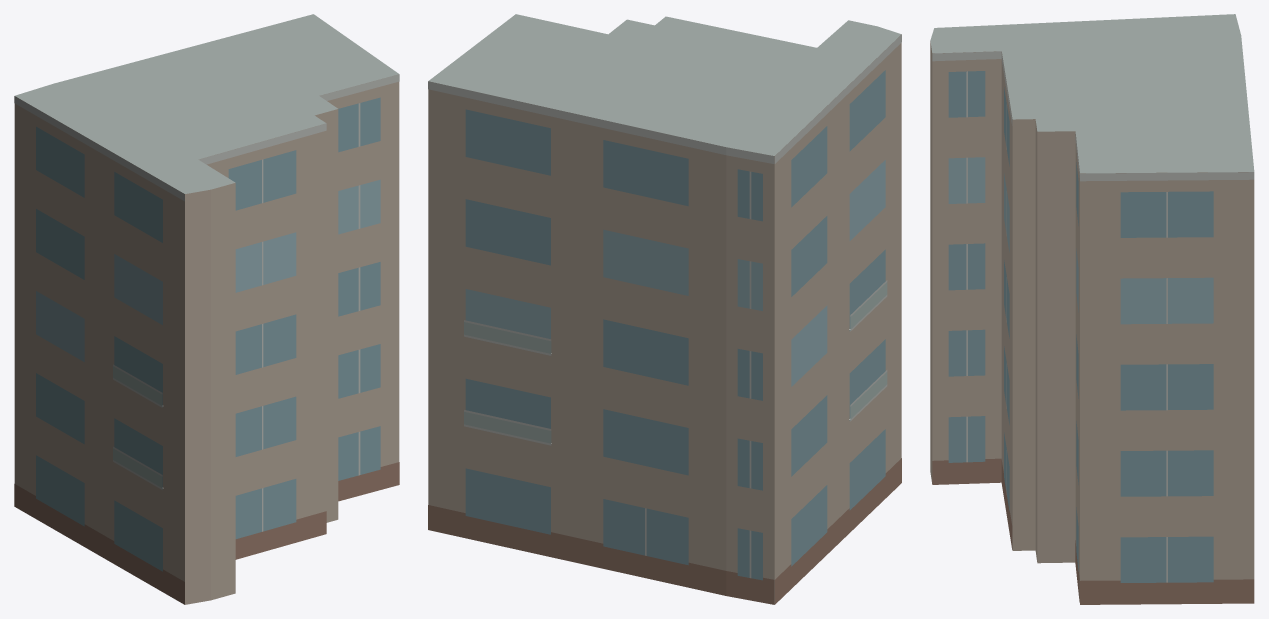
The model's file is survey-upis-32651727.glb.
The picture shows the model from 3 angles, left to right: view 1: azimuth 30°, elevation 25°; view 2: azimuth 150°, elevation 25°; view 3: azimuth 270°, elevation 25°; orthographic projection. The views are drawn at different scales.
Visible parts, largest first — view 1: survey-upis-32651727.tmp; view 2: survey-upis-32651727.tmp; view 3: survey-upis-32651727.tmp.
Boxes of the visible parts, <box> form: survey-upis-32651727.tmp: <box>14,14,399,604</box>; survey-upis-32651727.tmp: <box>428,14,901,604</box>; survey-upis-32651727.tmp: <box>930,14,1254,604</box>.
Size of the model in its own units: 10.71 by 13.5 by 9.19.
